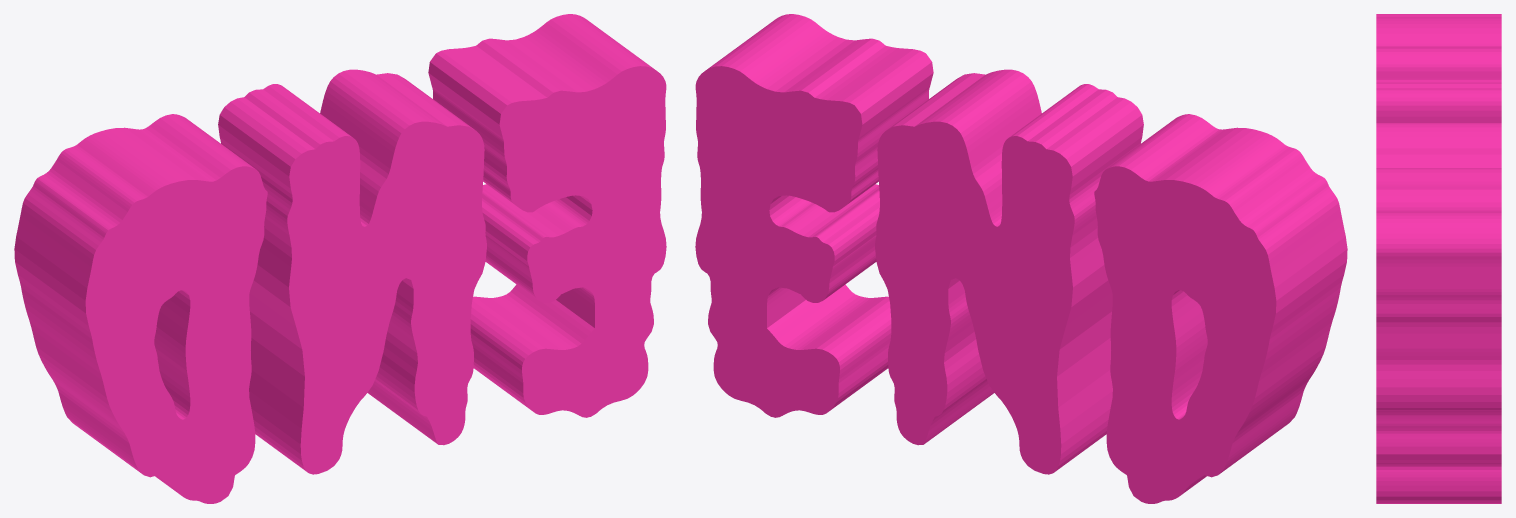
The model's file is end.glb.
The picture shows the model from 3 angles, left to right: view 1: azimuth 30°, elevation 25°; view 2: azimuth 150°, elevation 25°; view 3: azimuth 270°, elevation 25°; orthographic projection. The views are drawn at different scales.
Visible parts, largest first — view 1: End_tcollider; view 2: End_tcollider; view 3: End_tcollider.
Boxes of the visible parts, x1,y1,x2,y2 form: End_tcollider: (14, 14, 666, 503); End_tcollider: (695, 14, 1347, 503); End_tcollider: (1376, 14, 1501, 503).
Size of the model in its own units: 1.18 by 0.6604 by 0.25.
